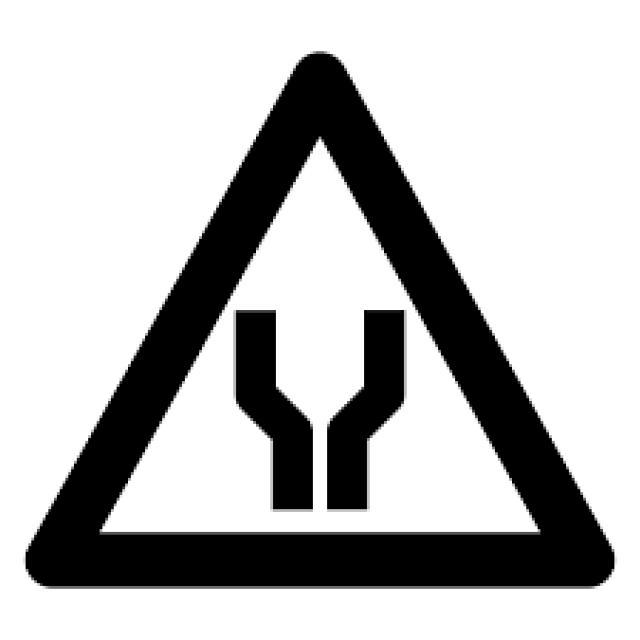road widens ahead: (18, 48, 616, 593)
